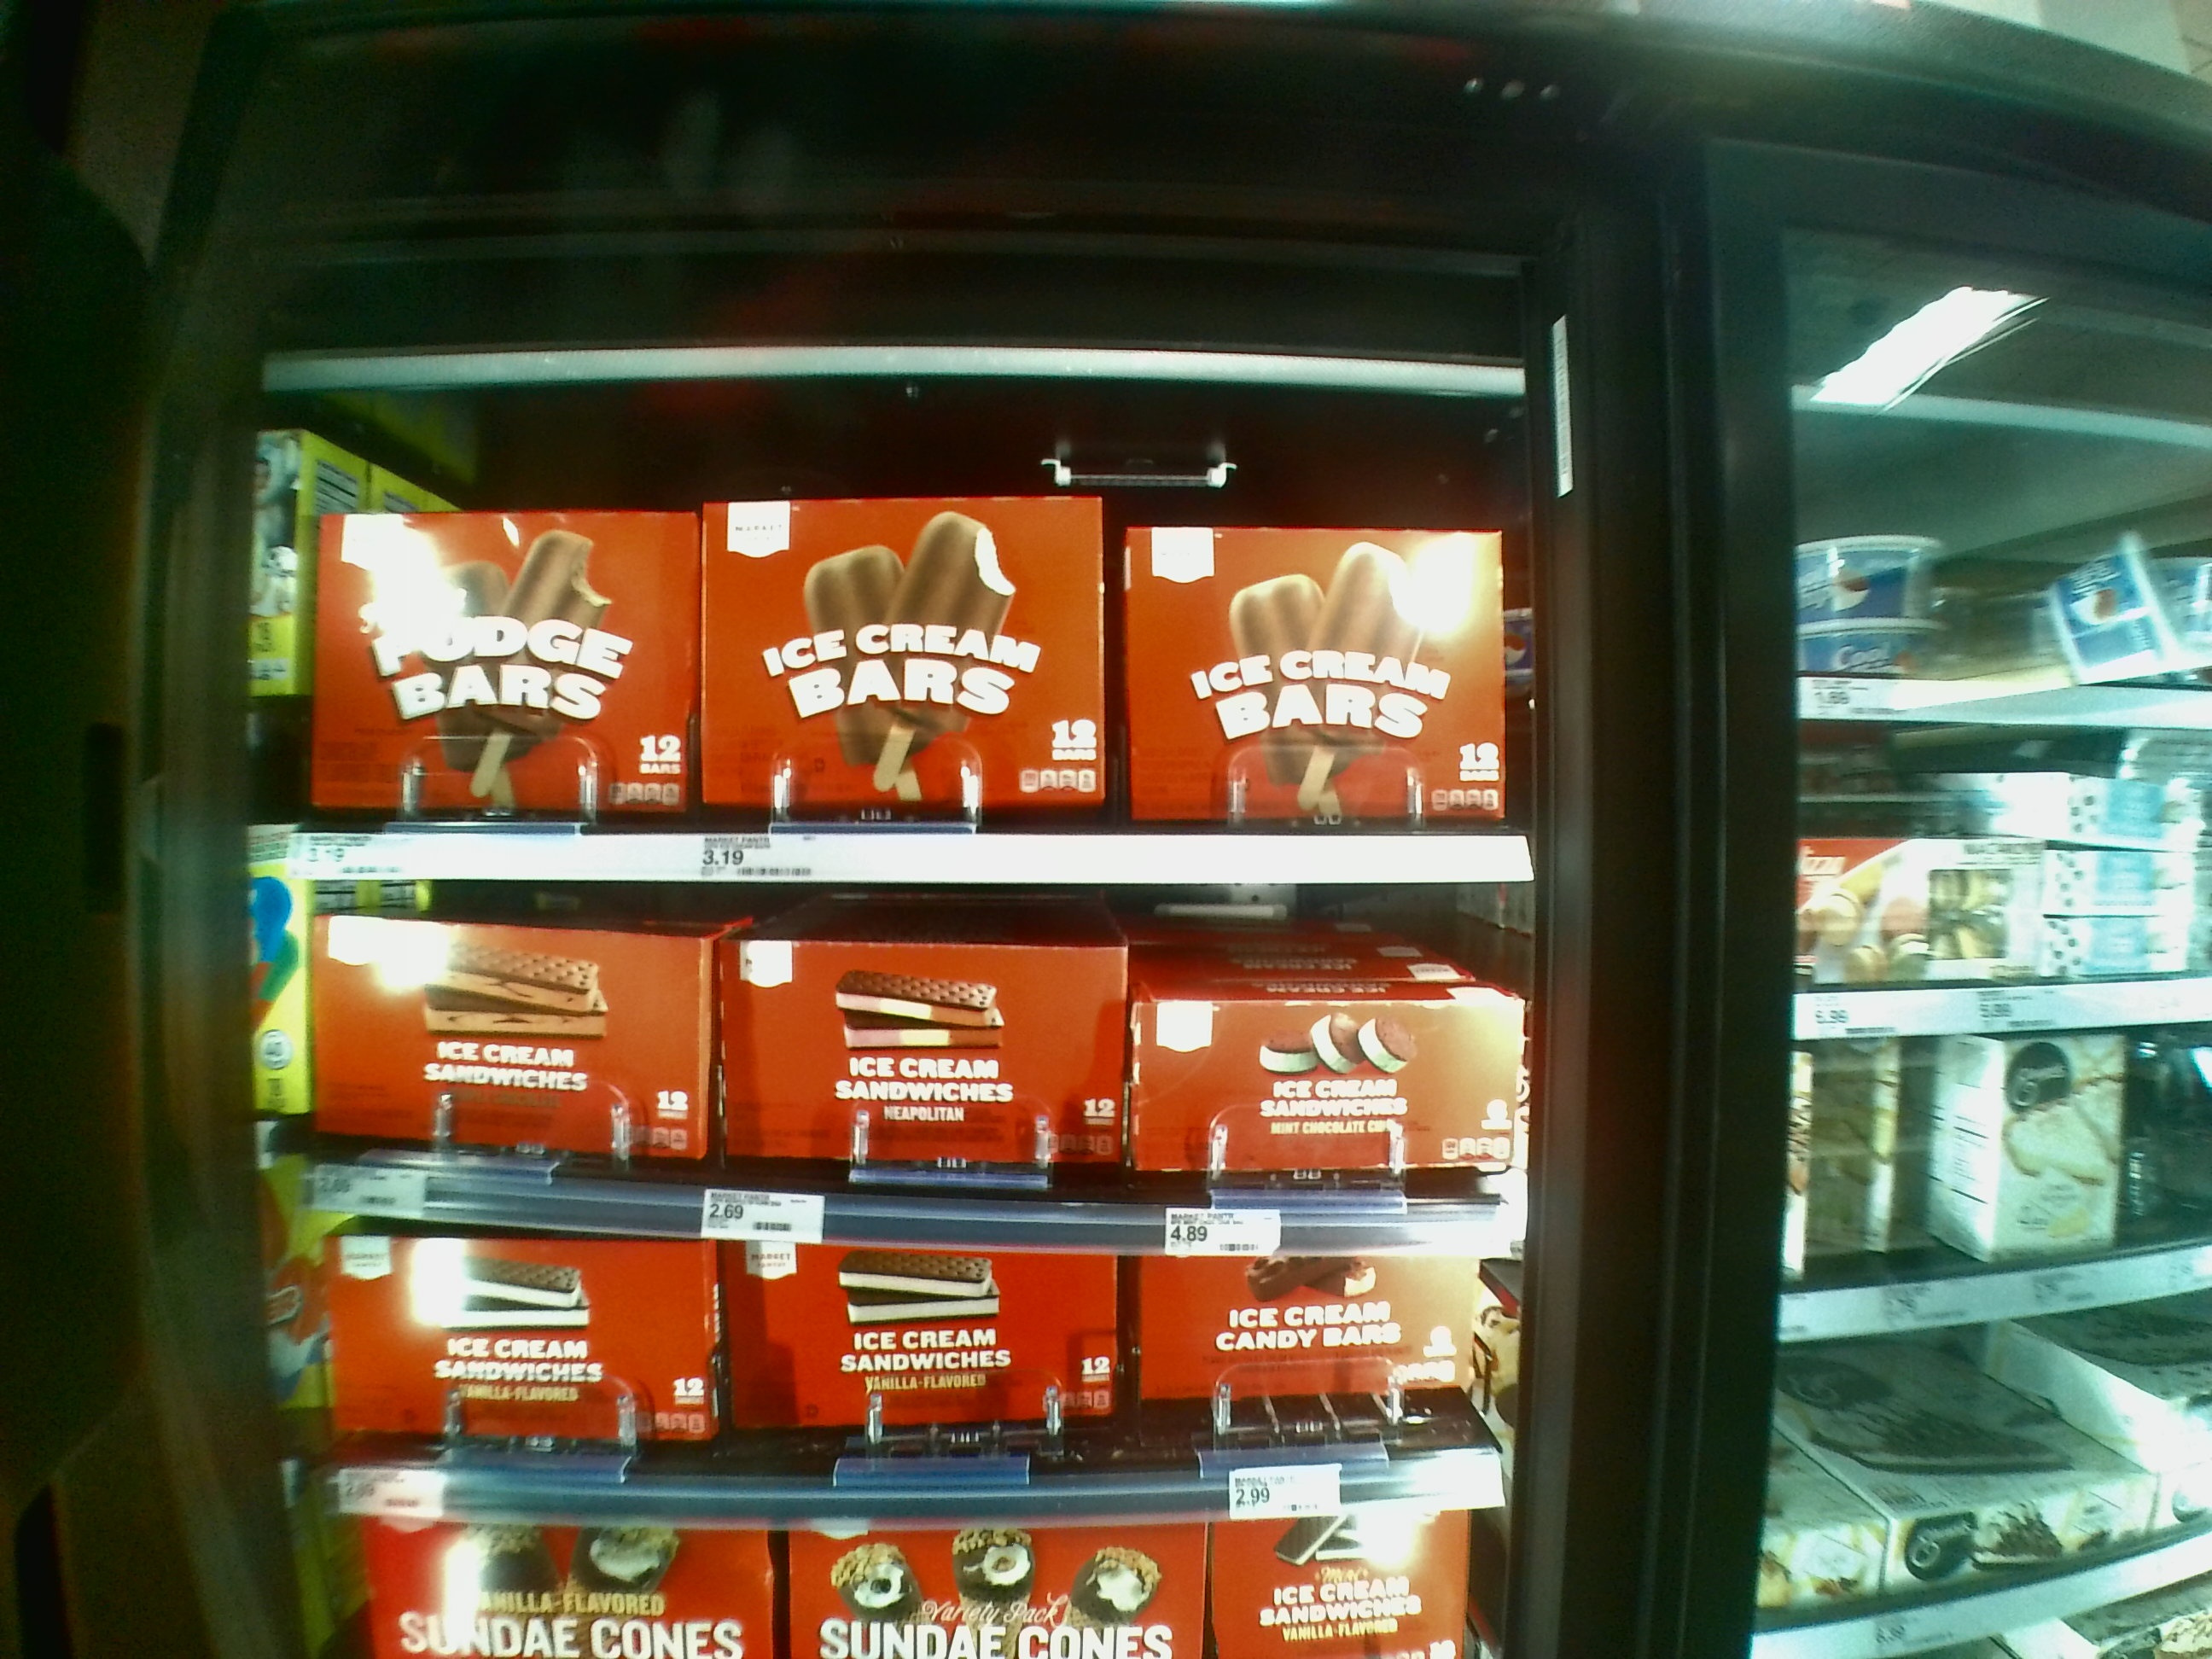shelf: (287, 401, 1526, 884), (296, 875, 1487, 1249), (331, 1223, 1472, 1520)
